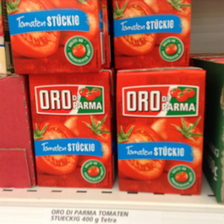tomato_sauce: (115, 68, 206, 198), (28, 72, 113, 189), (5, 1, 100, 74), (112, 1, 191, 68)
